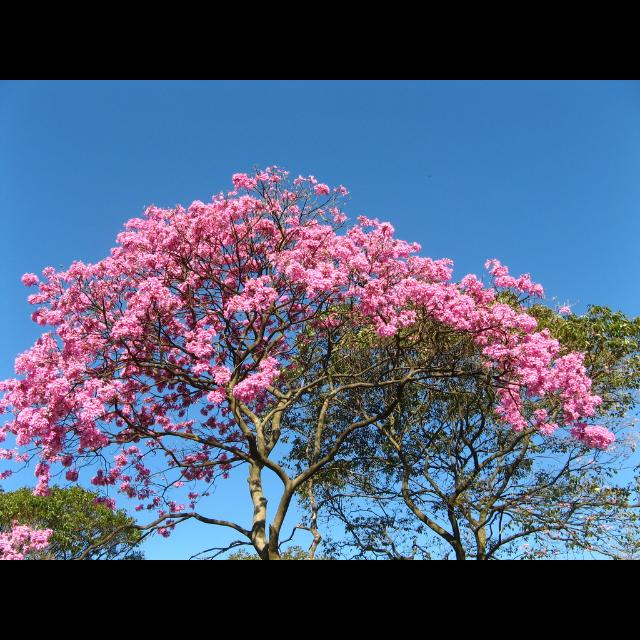Flower: (0, 162, 614, 458), (0, 523, 52, 559), (574, 422, 614, 446)
